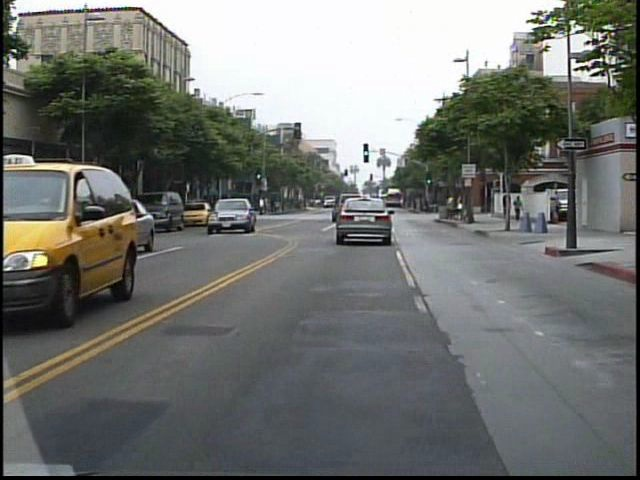person: (500, 187, 515, 227), (442, 190, 460, 221), (511, 192, 523, 224), (260, 194, 270, 219)
